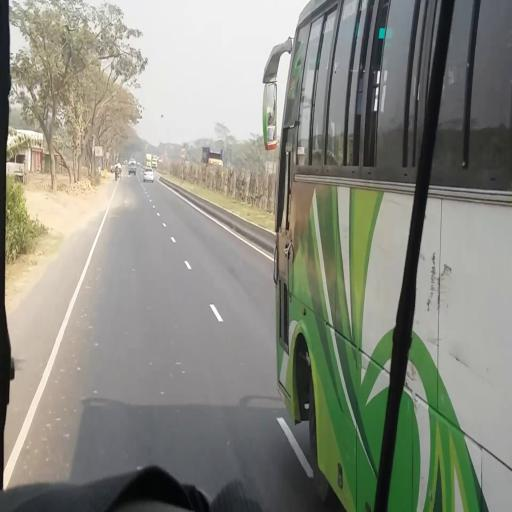bus: (263, 7, 512, 512)
car: (143, 168, 155, 182)
truck: (203, 147, 224, 171), (129, 159, 137, 175), (146, 154, 153, 167), (152, 157, 159, 167)
